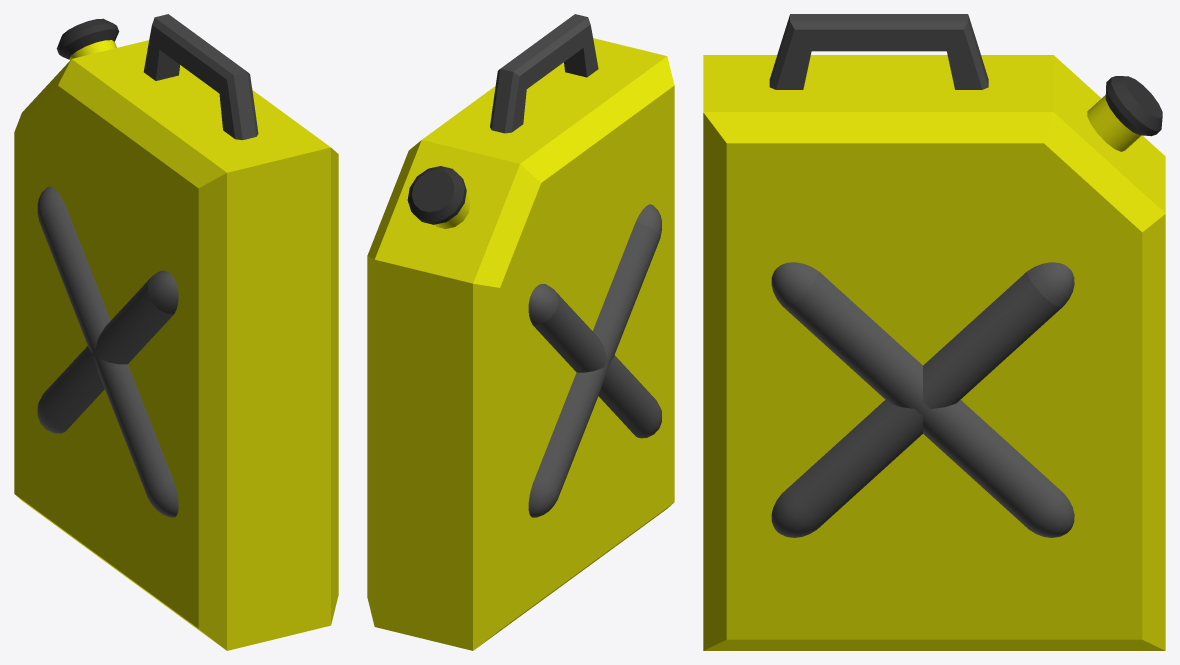
The model's file is jerry_can.fbx.
The picture shows the model from 3 angles, left to right: view 1: azimuth 30°, elevation 25°; view 2: azimuth 150°, elevation 25°; view 3: azimuth 270°, elevation 25°; orthographic projection. The views are drawn at different scales.
Parts seen in each view (by area): view 1: jerry_can; view 2: jerry_can; view 3: jerry_can.
Part boxes in pixels (box(x1,y1,x2,y2)): jerry_can: box(14, 14, 338, 650); jerry_can: box(367, 14, 674, 650); jerry_can: box(703, 14, 1165, 650).
Bounding box in the file's own units: 8.25 × 24.39 × 16.91.
